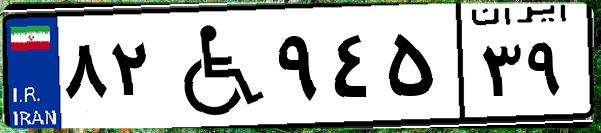2: (110, 28, 158, 98)
3: (475, 38, 525, 113)
4: (330, 28, 385, 110)
5: (385, 28, 445, 110)
8: (57, 26, 110, 100)
9: (270, 28, 330, 110), (525, 38, 570, 115)
ژ (معلولین و جانبازان): (158, 12, 270, 120)
